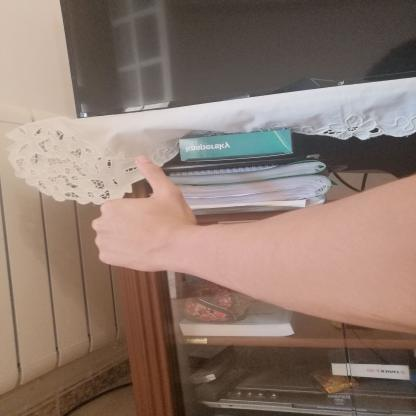ALIF: (77, 146, 212, 282)
